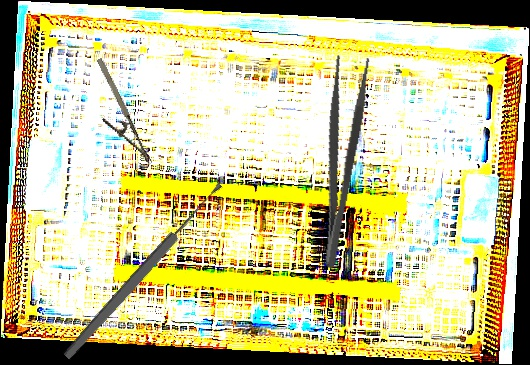Dressing Forceps: (302, 52, 374, 271)
Needle Holder: (79, 56, 153, 175)
Surgical Spoon: (61, 180, 226, 362)
